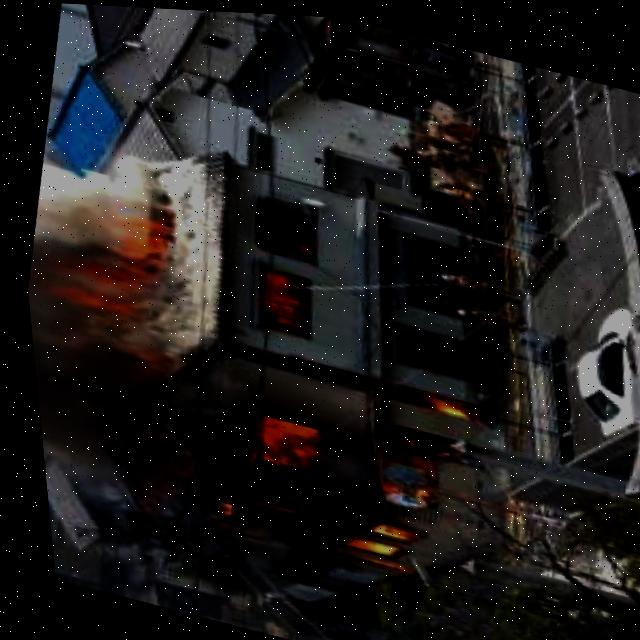Fire: (174, 333, 486, 599), (236, 224, 317, 332)
Smoke: (9, 124, 247, 499)
